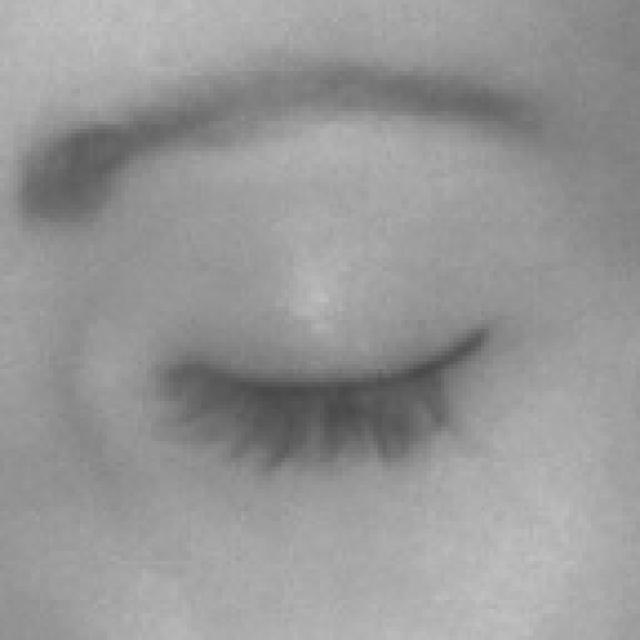close: (0, 35, 640, 556)
